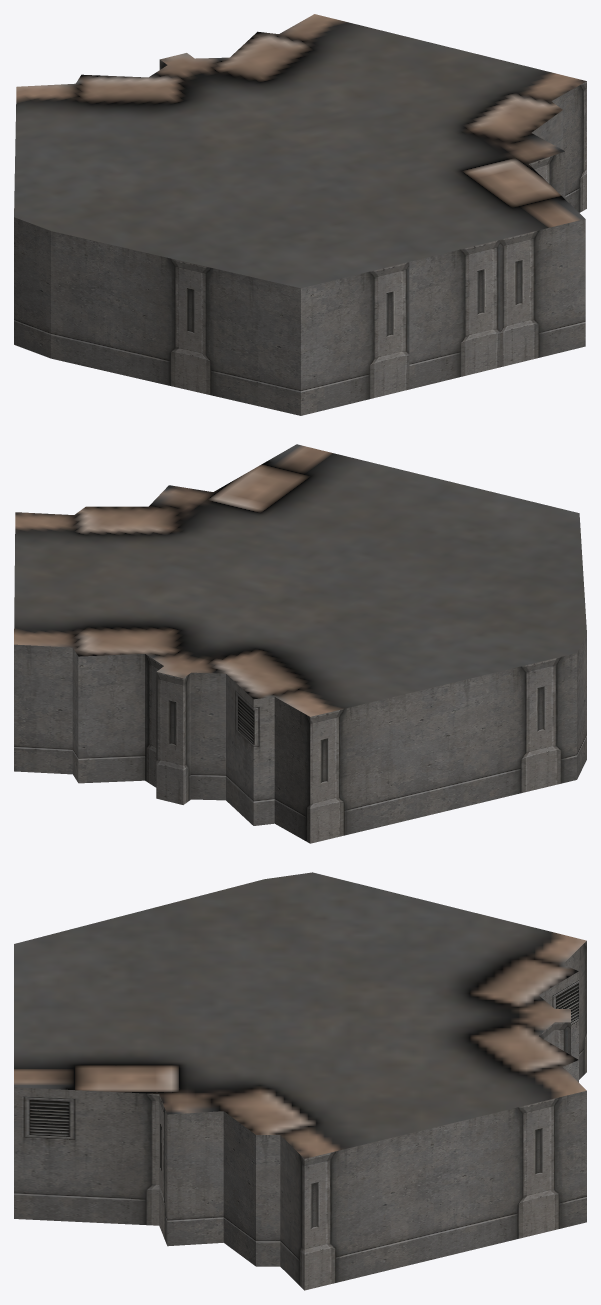
Rendered from building_hard_58.glb.
3 views of the same model, one above another, from view 1: azimuth 30°, elevation 25°; view 2: azimuth 150°, elevation 25°; view 3: azimuth 270°, elevation 25° (orthographic). The views are drawn at different scales.
Visible parts, largest first — view 1: buildings/saxarba/building_hard/building_hard_58; view 2: buildings/saxarba/building_hard/building_hard_58; view 3: buildings/saxarba/building_hard/building_hard_58.
Part boxes in pixels (x1,y1,x2,y2): buildings/saxarba/building_hard/building_hard_58: [14, 14, 586, 415]; buildings/saxarba/building_hard/building_hard_58: [14, 444, 586, 843]; buildings/saxarba/building_hard/building_hard_58: [14, 872, 586, 1290].
Bounding box in the file's own units: 84 × 18 × 71.
